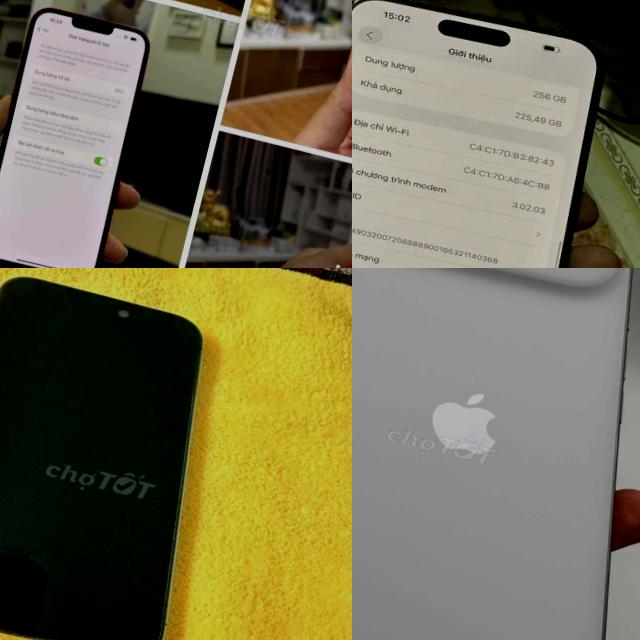gen_14: (0, 268, 254, 640)
gen_15: (352, 0, 629, 268)
gen_17: (352, 268, 640, 640)
scratch: (0, 597, 147, 640)
